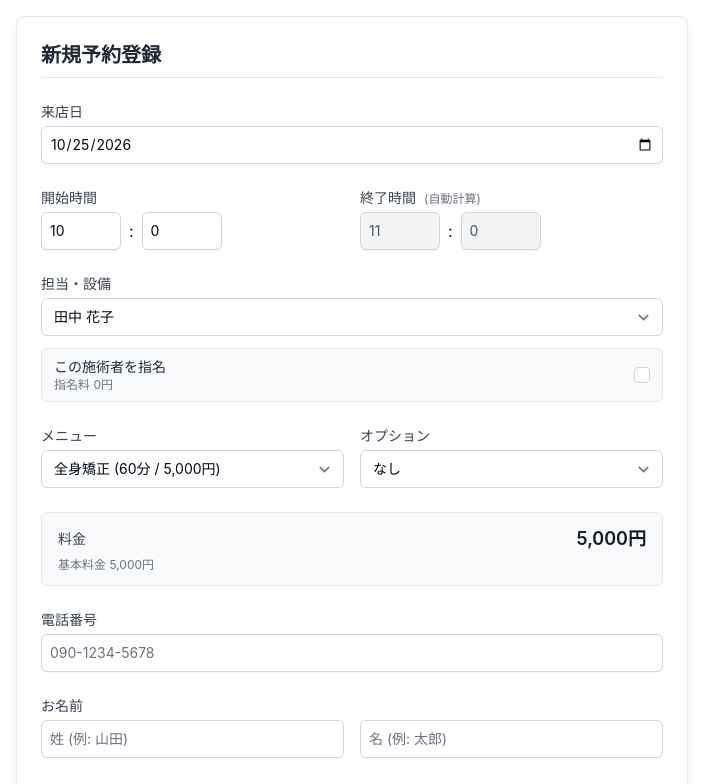
Test: 料金表示 › オプション選択時に価格差分を表示し合計料金を更新する
Step 1. Select "テーピング (+800円)" in the dropdown labelled "オプション" → (512, 469), box [360,450,663,488]
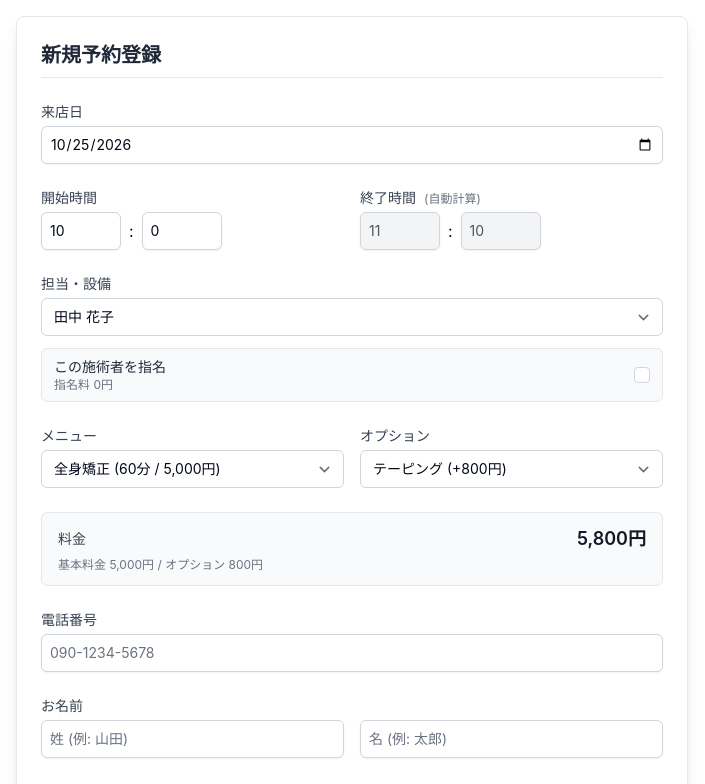
Expected: the text "5,800円" is shown, [577,525,646,553]
Expected: the text "基本料金 5,000円 / オプション 800円" is shown, [58,557,263,572]
